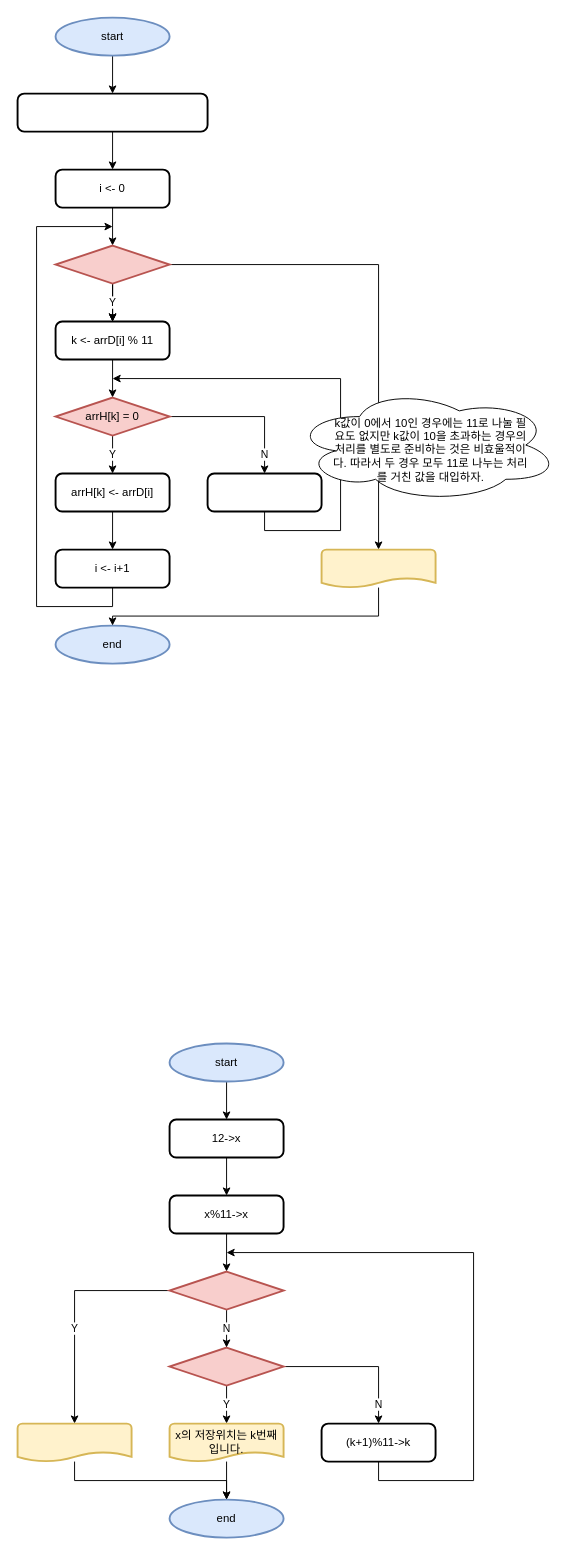
Image size: 576x1554. Some labels were removed from this diagram. Here are the shapes that lost their labels. From the top down, the centre of each, then its label:
At [112,112]: "arrD={12,25,36,20,30,8,42} arrH=[11]".
At [112,264]: "i<7".
At [264,492]: "k <- (k+1) % 11".
At [378,568]: "arrH".
At [226,1290]: "arr[k]=0".
At [226,1366]: "arrH[k]=x".
At [74,1442]: "x값은 없습니다.".
